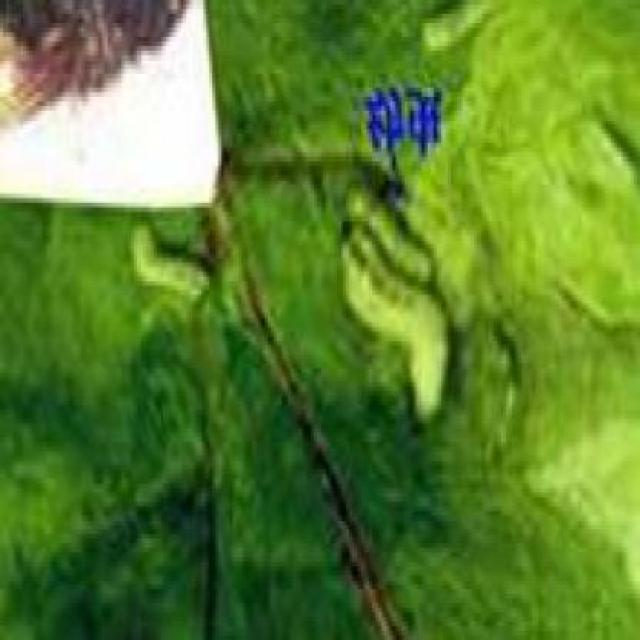whorl-maggot: (332, 162, 454, 429), (126, 214, 219, 300)
